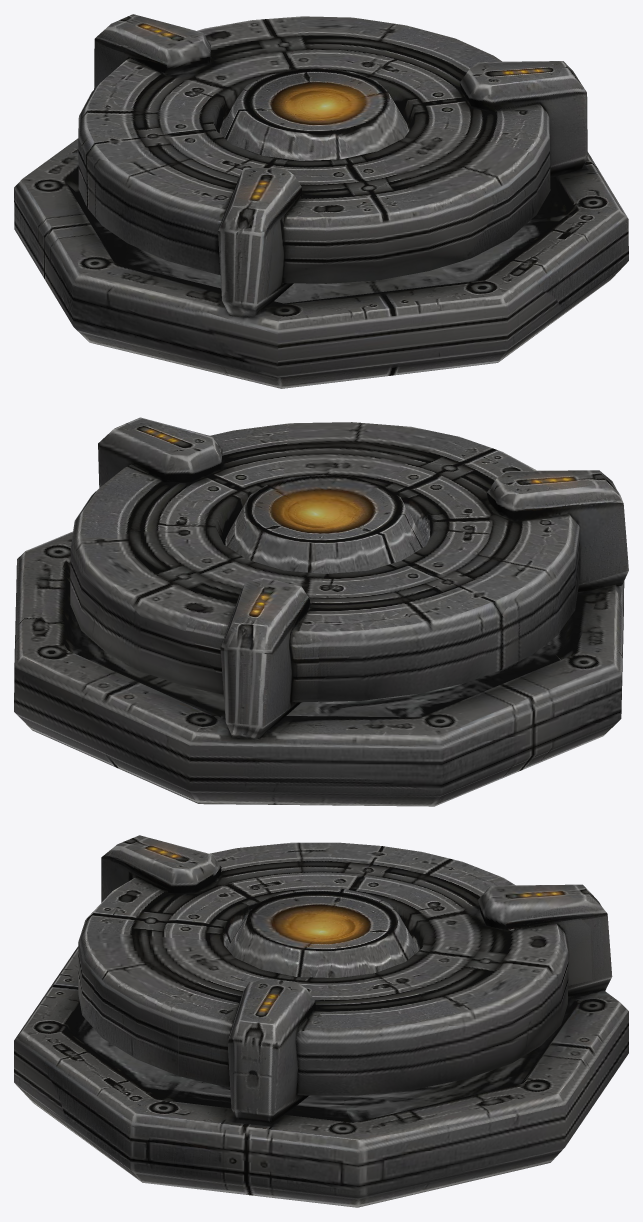
Rendered from cold-iron-v2-electrical-terminal-c.glb.
The picture shows the model from 3 angles, top to bottom: view 1: azimuth 30°, elevation 25°; view 2: azimuth 150°, elevation 25°; view 3: azimuth 270°, elevation 25°; orthographic projection. The views are drawn at different scales.
Parts seen in each view (by area): view 1: tripo_node_241dd3f3-9ea9-4056-af07-c7400017b1a5; view 2: tripo_node_241dd3f3-9ea9-4056-af07-c7400017b1a5; view 3: tripo_node_241dd3f3-9ea9-4056-af07-c7400017b1a5.
Boxes of the visible parts, x1,y1,x2,y2 form: tripo_node_241dd3f3-9ea9-4056-af07-c7400017b1a5: (14, 14, 628, 388); tripo_node_241dd3f3-9ea9-4056-af07-c7400017b1a5: (14, 417, 628, 806); tripo_node_241dd3f3-9ea9-4056-af07-c7400017b1a5: (14, 835, 628, 1207).
Bounding box in the file's own units: 1.07 × 0.3344 × 1.07.
1 material, 1 textured.
